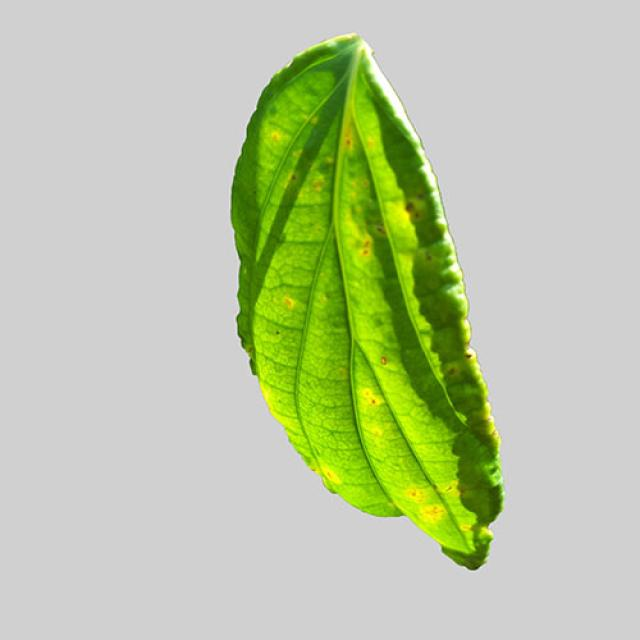yellow-mottle-virus: (205, 40, 512, 571)
